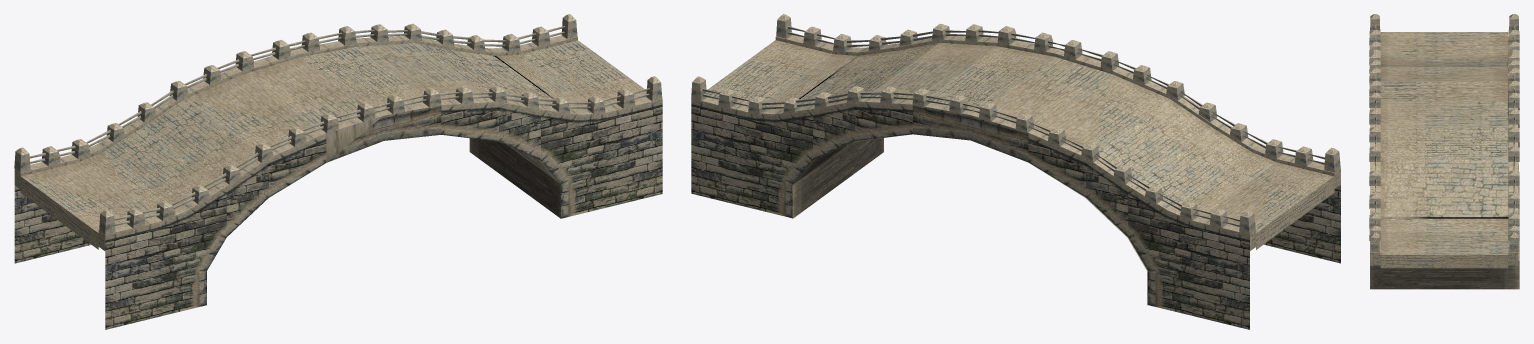
The model's file is desert_-bridge01_lod_01.fbx.
3 views of the same model, side by side, from view 1: azimuth 30°, elevation 25°; view 2: azimuth 150°, elevation 25°; view 3: azimuth 270°, elevation 25° (orthographic). The views are drawn at different scales.
Visible parts, largest first — view 1: desert_bridge01_02, Bip01; view 2: desert_bridge01_02, Bip01; view 3: desert_bridge01_02.
Part boxes in pixels (x1,y1,x2,y2): desert_bridge01_02: (14,14,662,250); Bip01: (14,37,662,329); desert_bridge01_02: (691,14,1340,305); Bip01: (691,37,1340,329); desert_bridge01_02: (1369,14,1519,289).
Size of the model in its own units: 28.93 by 7.94 by 8.24.
